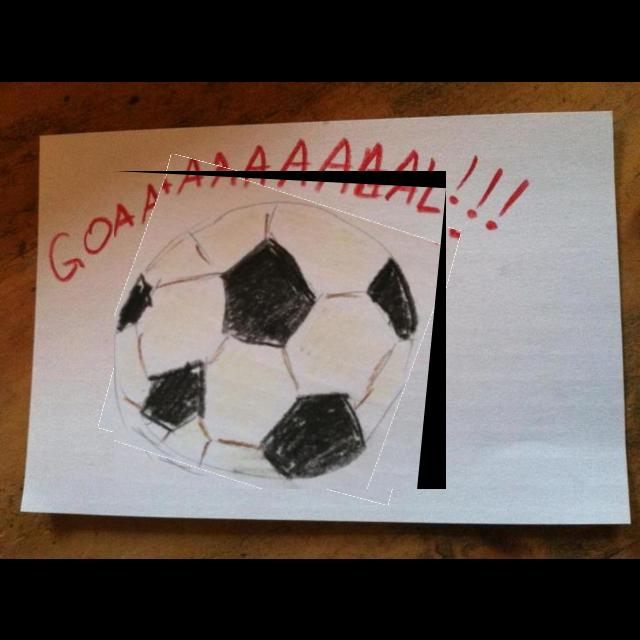Football: (114, 171, 446, 489)
